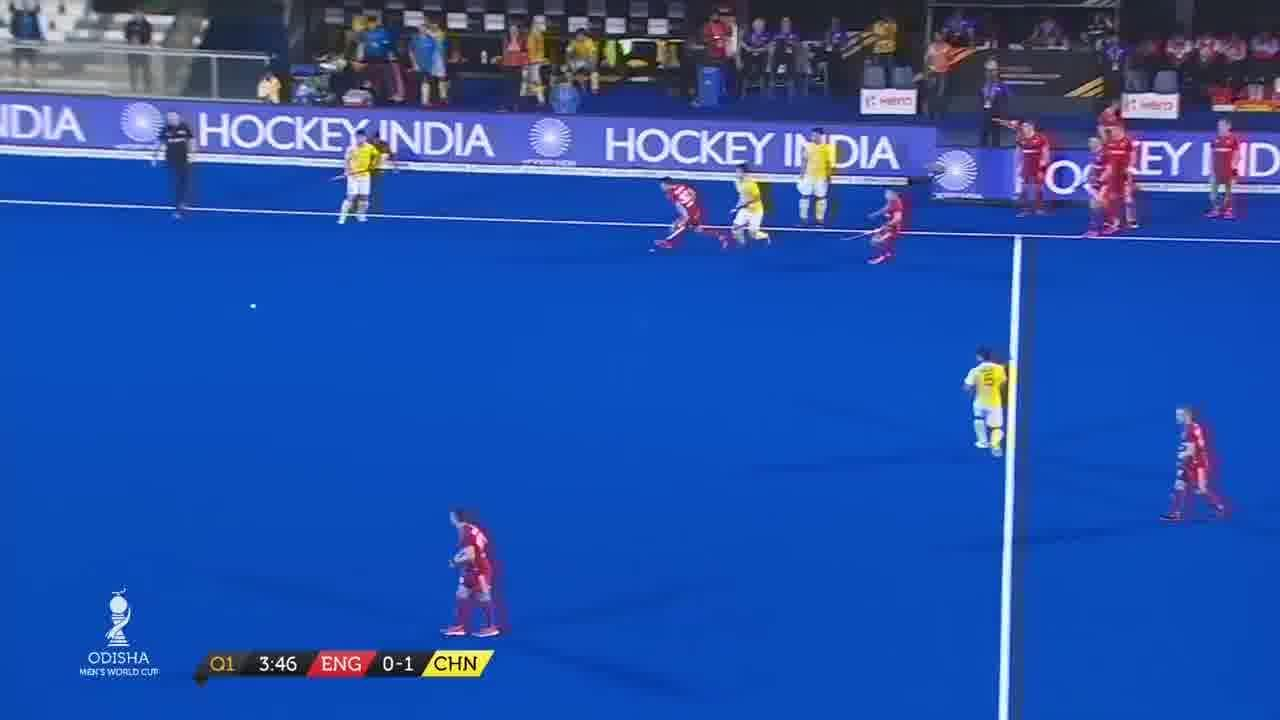ball: (244, 290, 270, 318)
